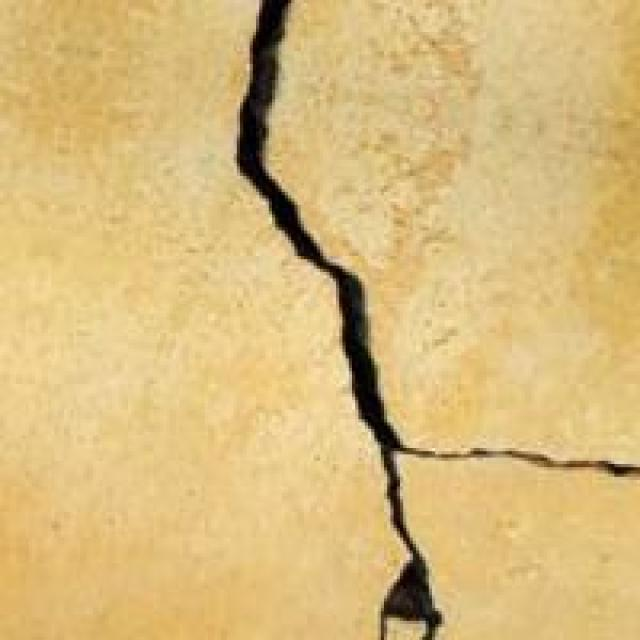Crack: (218, 0, 636, 637)
